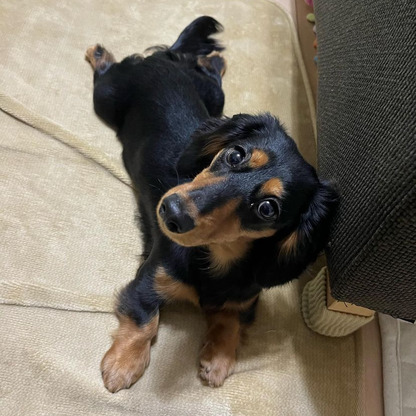dachshund: (68, 32, 360, 363)
